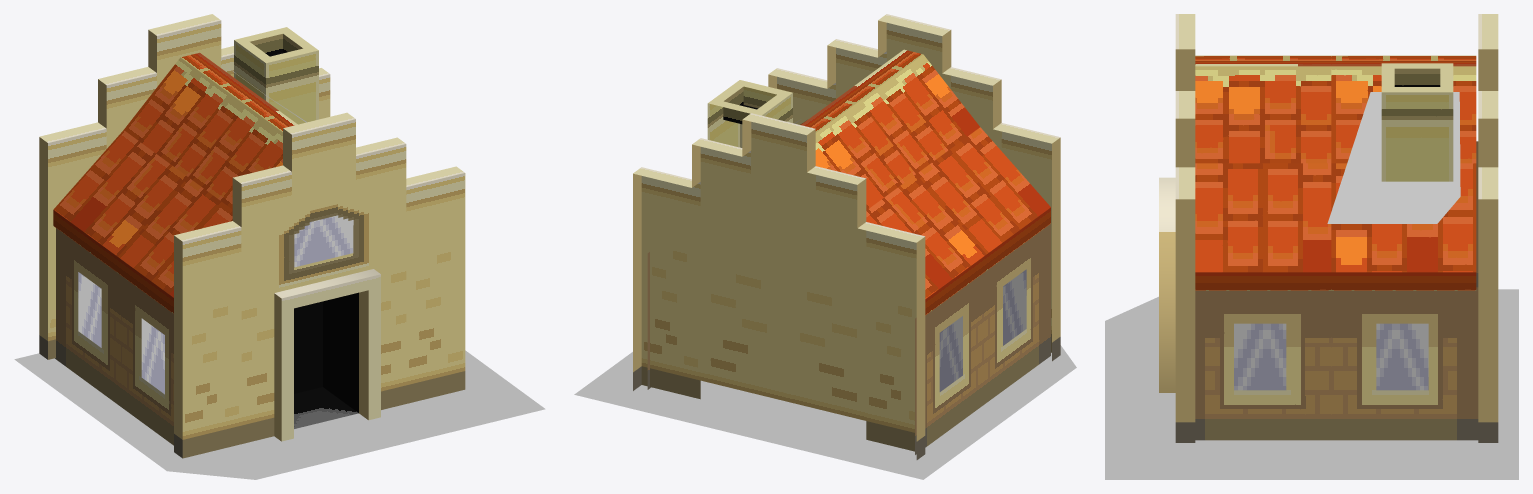
The model's file is t06_house_01.dae.
The picture shows the model from 3 angles, left to right: view 1: azimuth 30°, elevation 25°; view 2: azimuth 150°, elevation 25°; view 3: azimuth 270°, elevation 25°; orthographic projection. The views are drawn at different scales.
Visible parts, largest first — view 1: t06_house_01; view 2: t06_house_01; view 3: t06_house_01.
Part boxes in pixels (x1,y1,x2,y2): t06_house_01: (14, 14, 545, 479); t06_house_01: (574, 14, 1076, 479); t06_house_01: (1105, 14, 1518, 479).
Bounding box in the file's own units: 83.93 × 70.54 × 76.91.
